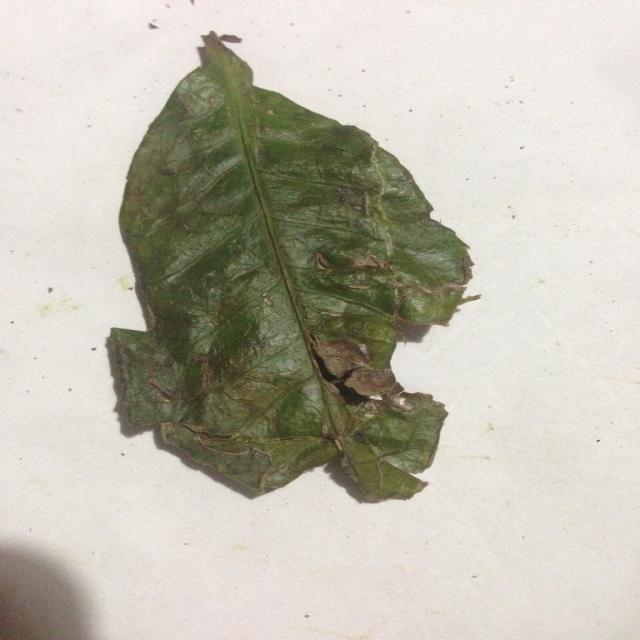Red Leaf Spot: (96, 19, 474, 480)
